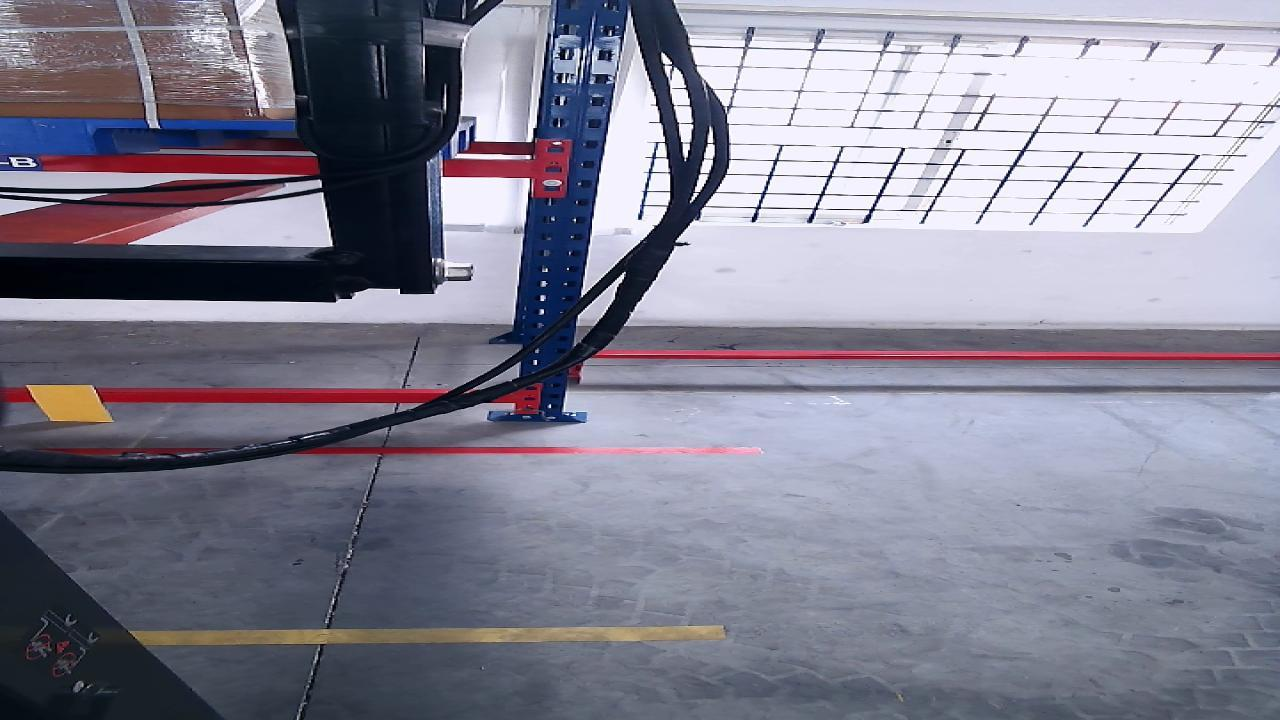h_rack: (1, 155, 527, 176), (1, 390, 510, 403)
orange_strip: (26, 386, 111, 421)
red_line: (48, 448, 765, 455)
yellow_line: (131, 624, 723, 647)
